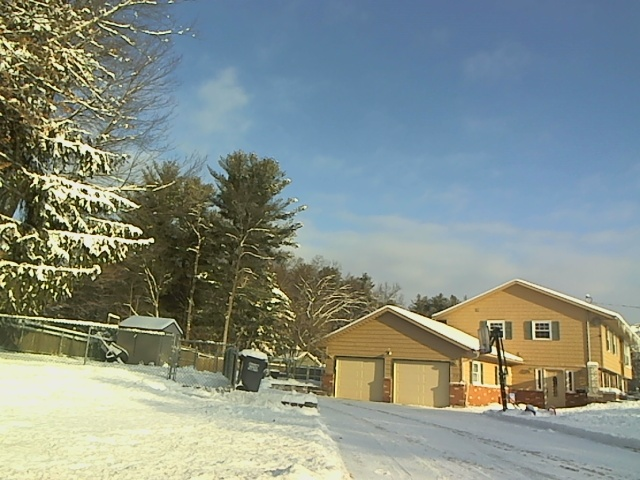Unploughed: (328, 404, 629, 480)
